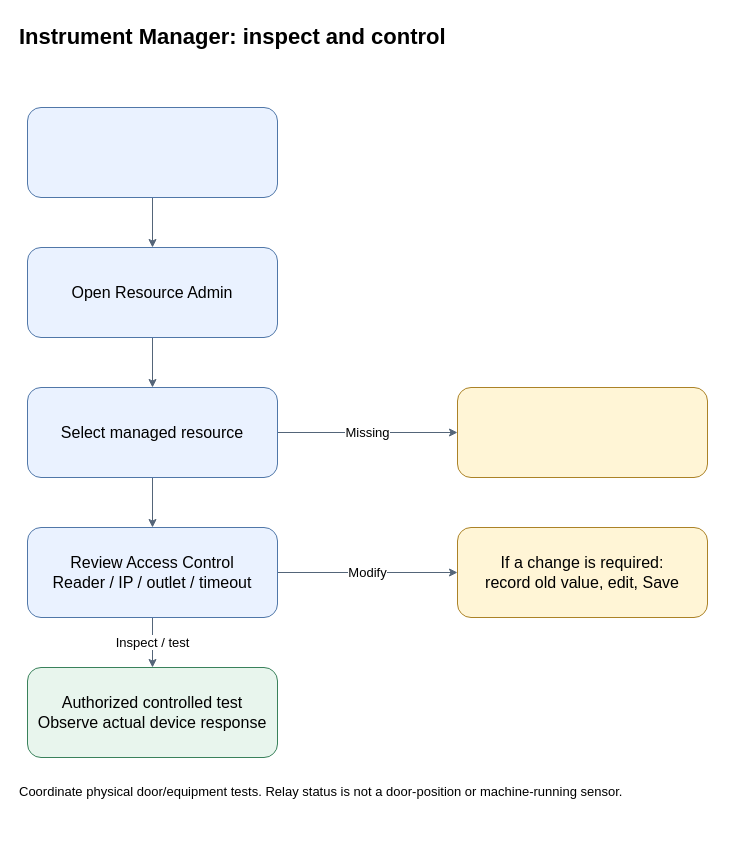
Some shapes in this 734 by 850 pixel diagram are drawn without their labels. The box of each missing label's shape, as (x1, y1, x2, y2) in pixels:
Log into FOM: (26, 106, 278, 198)
Resource unavailable? Confirm manager assignment: (456, 386, 708, 478)
